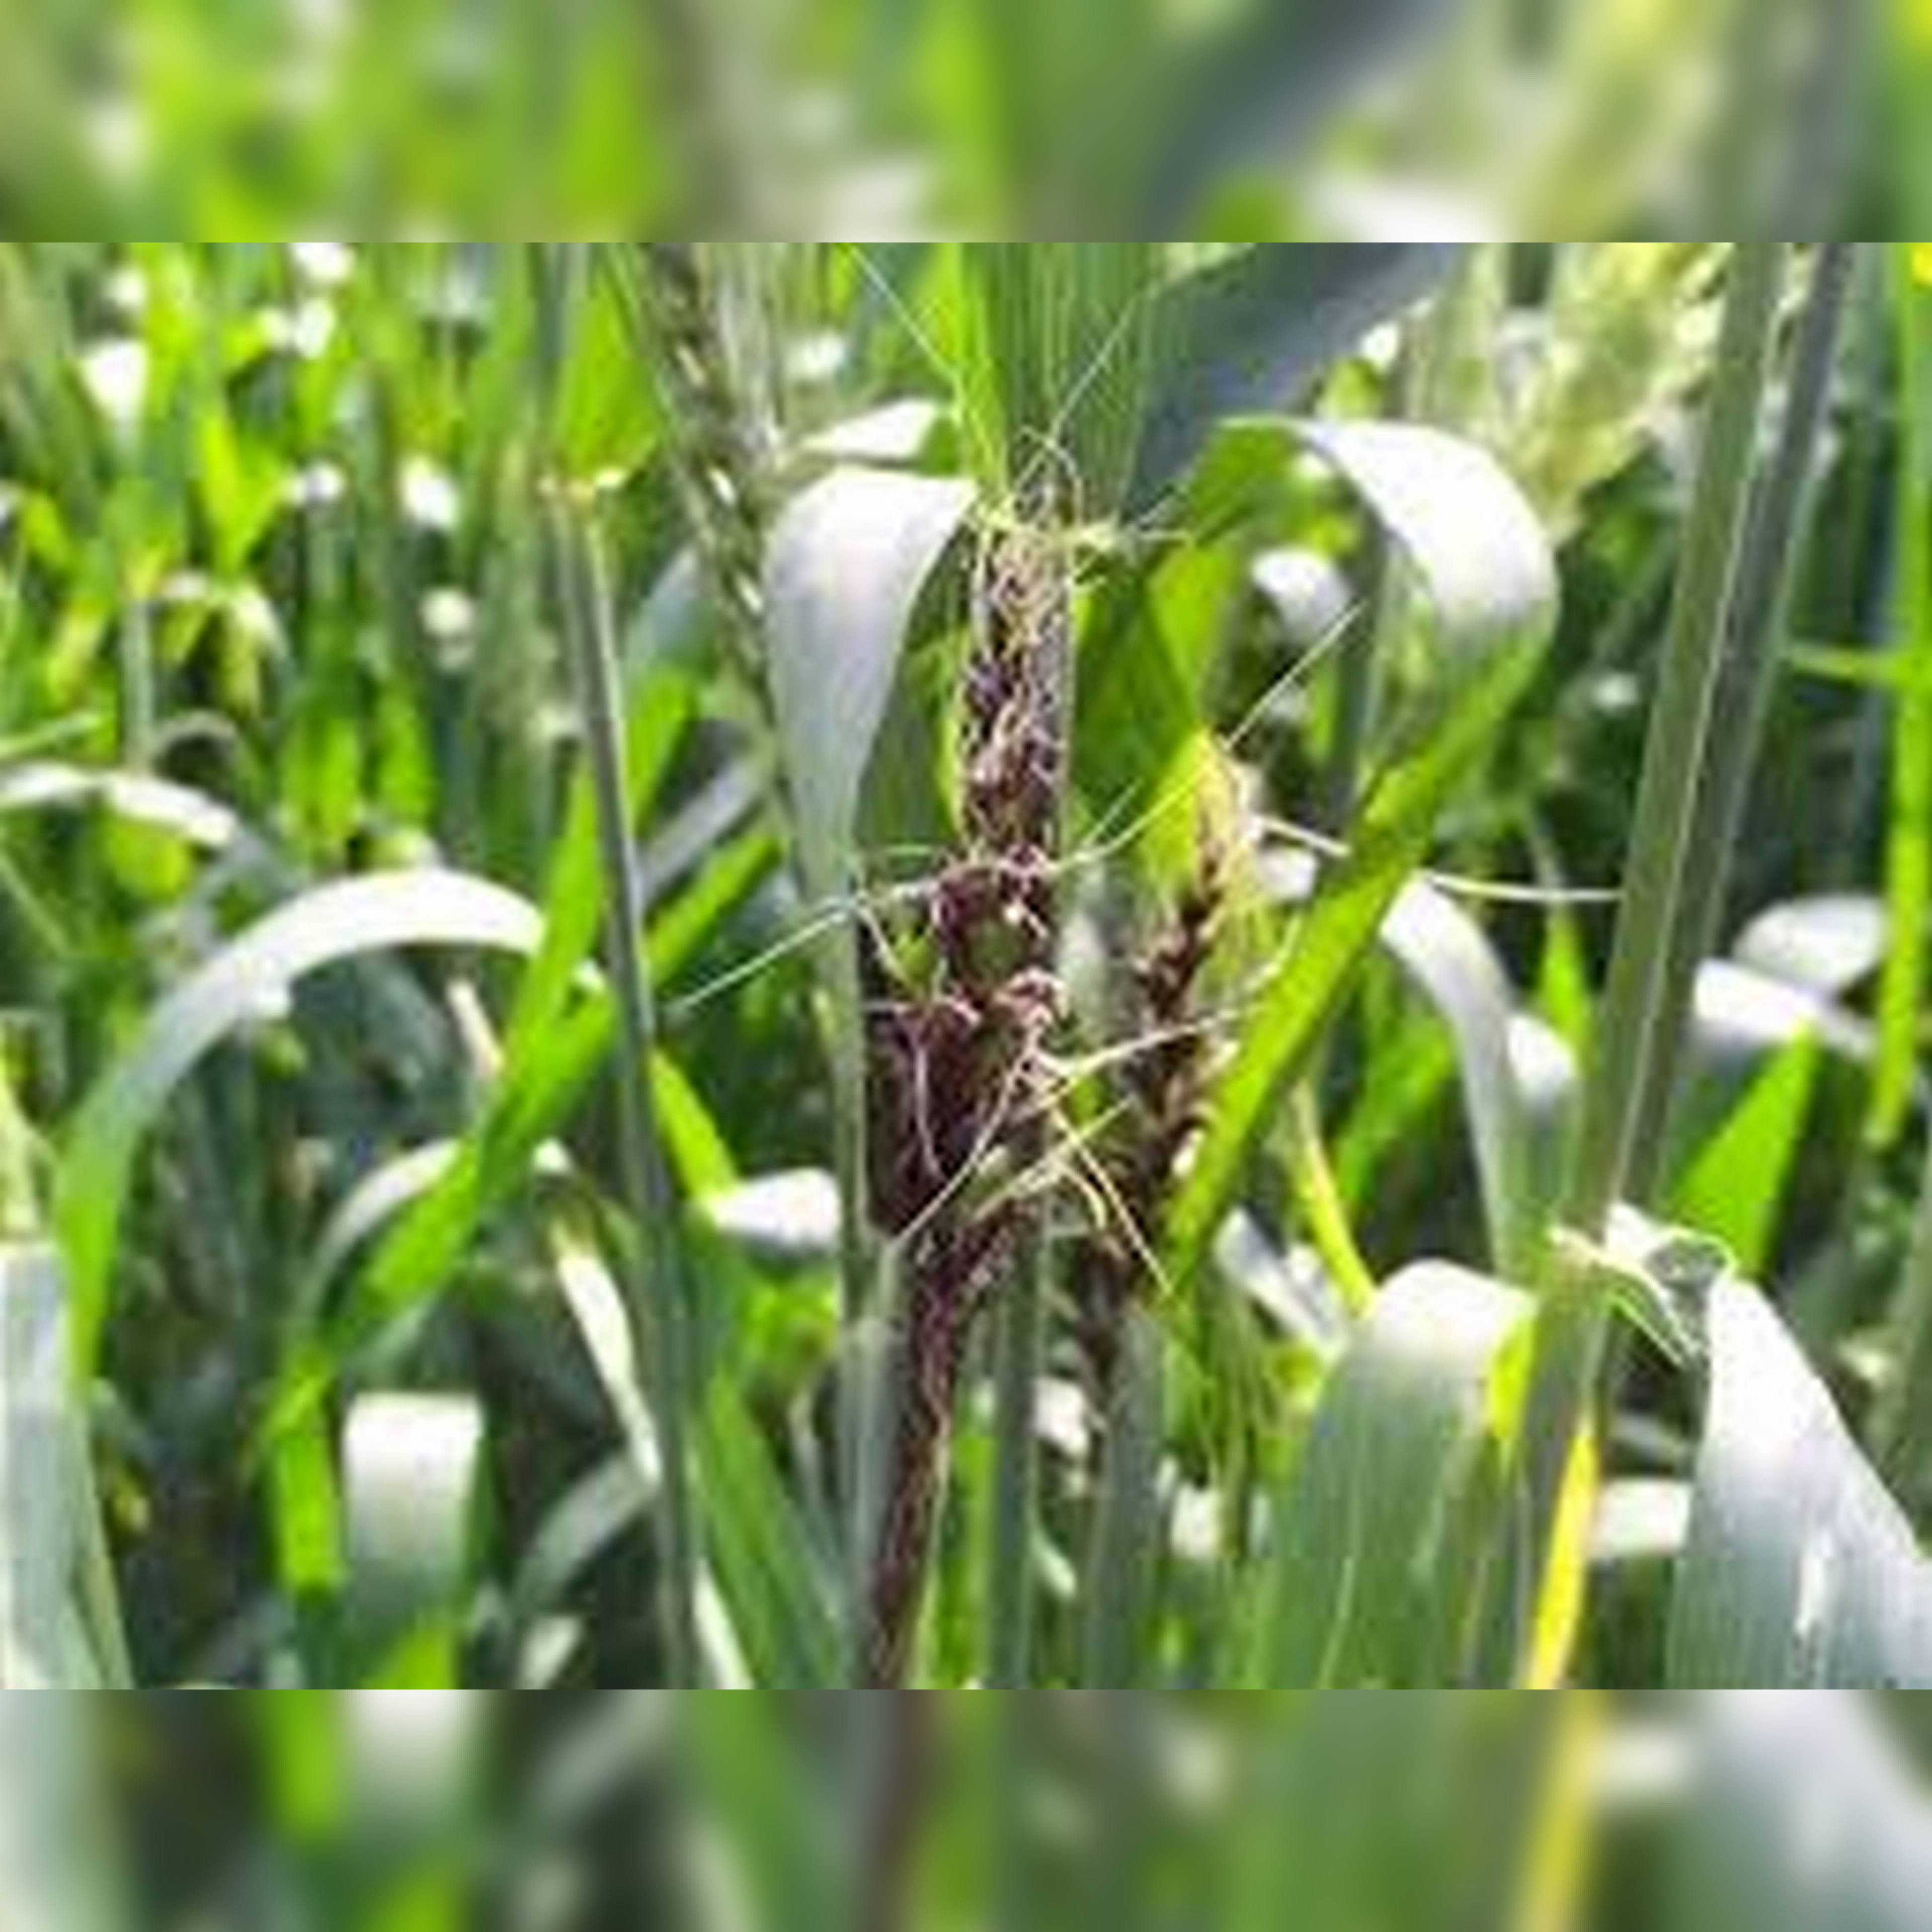Wheat Loose Smut: (826, 529, 1254, 1352)
